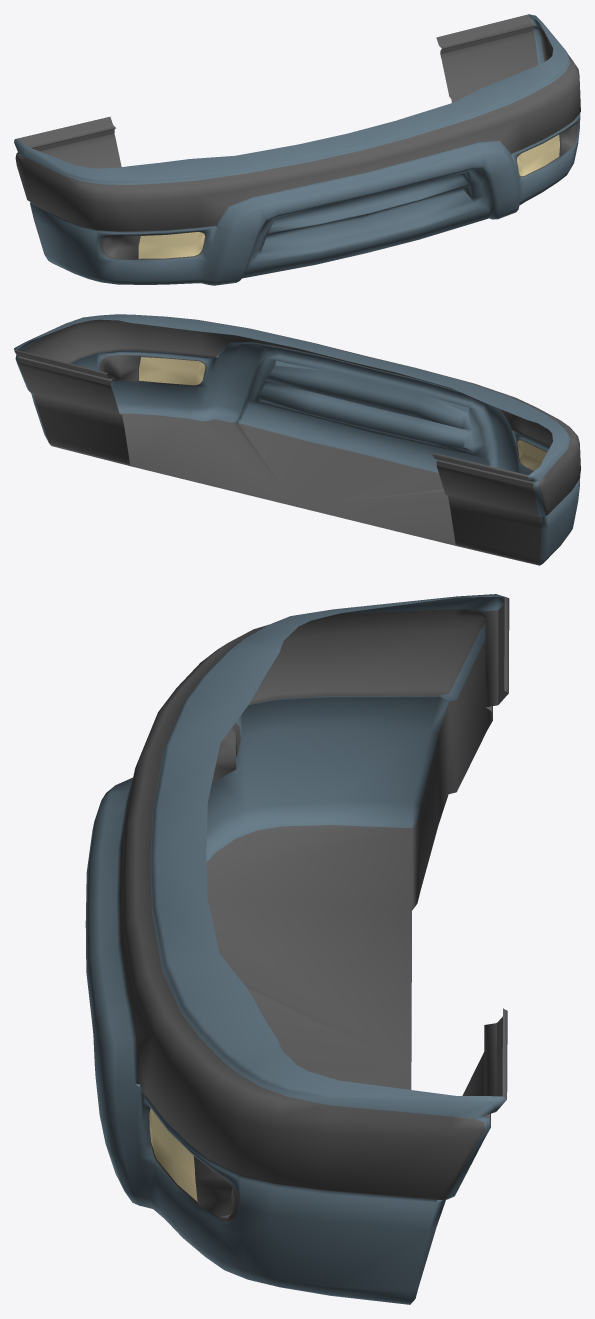
Rendered from stock_bumper.glb.
The picture shows the model from 3 angles, top to bottom: view 1: azimuth 30°, elevation 25°; view 2: azimuth 150°, elevation 25°; view 3: azimuth 270°, elevation 25°; orthographic projection. The views are drawn at different scales.
Visible parts, largest first — view 1: Stock Front Bumper; view 2: Stock Front Bumper; view 3: Stock Front Bumper.
Part boxes in pixels (x1,y1,x2,y2): Stock Front Bumper: (14,14,580,285); Stock Front Bumper: (14,314,580,565); Stock Front Bumper: (85,594,509,1304).
Bounding box in the file's own units: 1.7 × 0.3424 × 0.5909.
